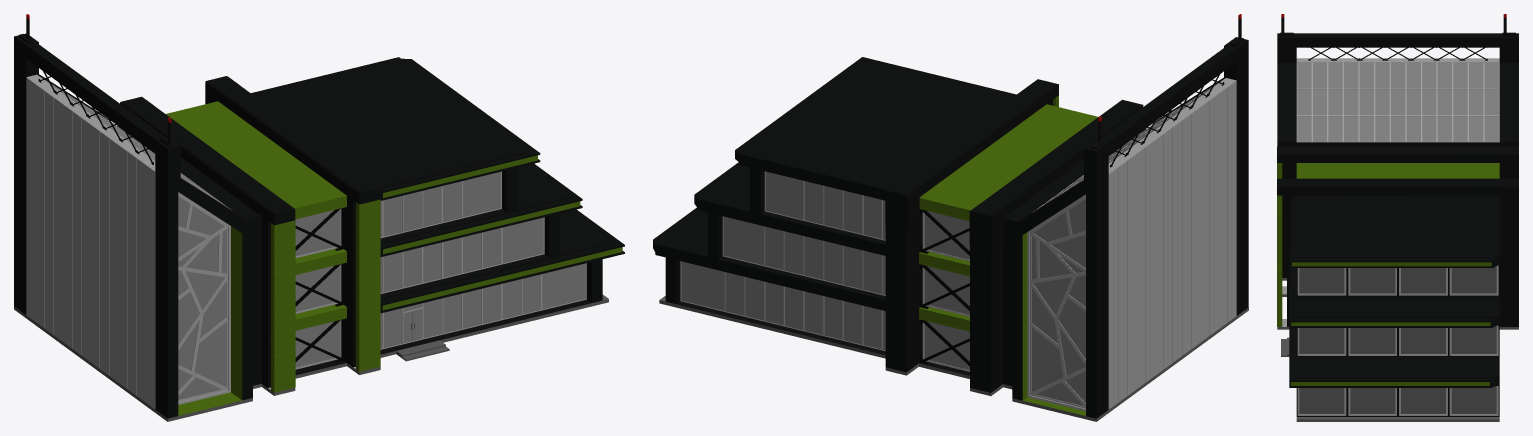
Rendered from Shopping Center Building Free 3D Model.FBX.
3 views of the same model, side by side, from view 1: azimuth 30°, elevation 25°; view 2: azimuth 150°, elevation 25°; view 3: azimuth 270°, elevation 25° (orthographic). The views are drawn at different scales.
Parts seen in each view (by area): view 1: Object035; view 2: Object035; view 3: Object035.
Boxes of the visible parts, x1,y1,x2,y2 form: Object035: (14, 14, 624, 421); Object035: (653, 14, 1248, 421); Object035: (1277, 14, 1518, 421).
Bounding box in the file's own units: 43694 × 26900 × 25020.
